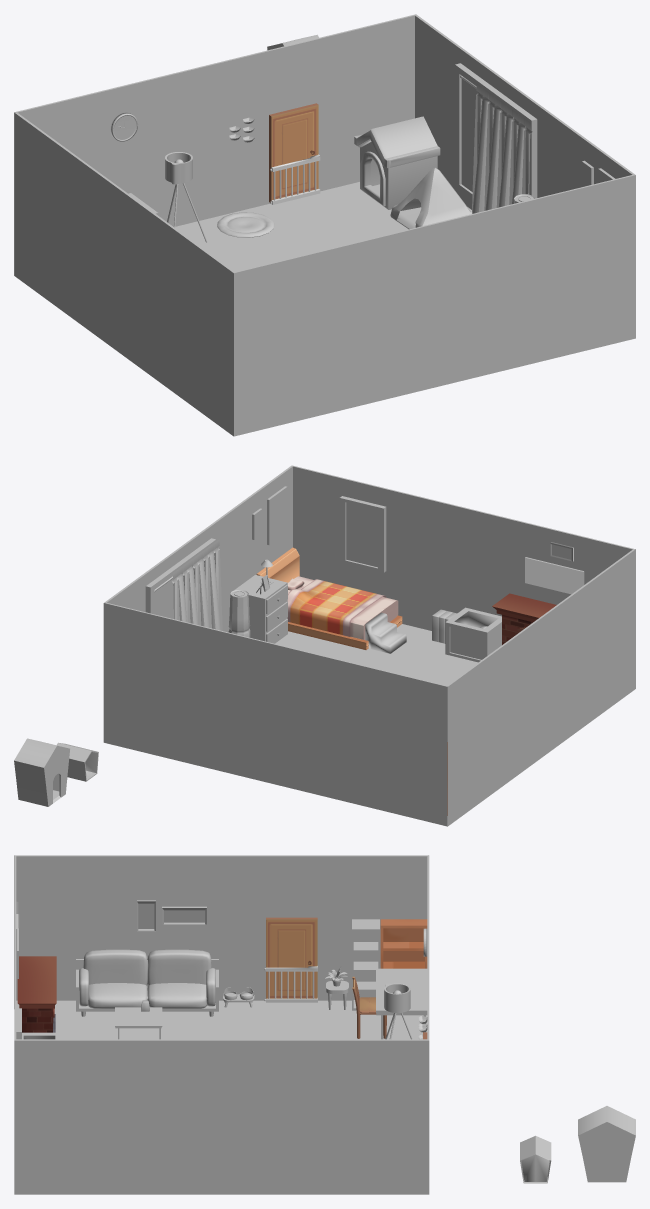
The model's file is 마이홈 배치 06_17 갱신.fbx.
3 renders of one model, top to bottom at view 1: azimuth 30°, elevation 25°; view 2: azimuth 150°, elevation 25°; view 3: azimuth 270°, elevation 25°, orthographic. The views are drawn at different scales.
Parts seen in each view (by area): view 1: Wall.01, Wall.03, Wall.02, Wall.04, MyHome, Box001, Door, Plane001, Cone001, Plane005, Plane006, Plane004 (+5 smaller); view 2: Wall.03, Wall.02, Wall.01, Wall.04, Bed, MyHome, Plane002, DogHouse1, Post, PlayBox, nightstand, FirePlace2 (+9 smaller); view 3: Wall.04, Wall.02, MyHome, Sofa, ToiletDoor, DogHouse1, FirePlace2, Bookshelf, Bookshelf.001, PC.001, Post.001, DogHouseSmall (+7 smaller).
Part boxes in pixels (<box>): Wall.01: <box>234,175,635,436</box>; Wall.03: <box>14,14,415,275</box>; Wall.02: <box>14,112,234,436</box>; Wall.04: <box>415,14,635,209</box>; MyHome: <box>175,182,468,271</box>; Box001: <box>354,116,440,209</box>; Door: <box>269,103,318,202</box>; Plane001: <box>455,63,537,199</box>; Cone001: <box>390,167,472,229</box>; Plane005: <box>472,83,489,213</box>; Plane006: <box>484,92,502,210</box>; Plane004: <box>496,101,514,207</box>; Wall.03: <box>103,602,447,826</box>; Wall.02: <box>447,549,635,825</box>; Wall.01: <box>292,465,634,630</box>; Wall.04: <box>104,465,292,632</box>; Bed: <box>256,547,402,649</box>; MyHome: <box>275,624,478,826</box>; Plane002: <box>339,496,386,572</box>; DogHouse1: <box>14,738,69,806</box>; Post: <box>252,486,584,594</box>; PlayBox: <box>445,607,501,662</box>; nightstand: <box>233,575,287,643</box>; FirePlace2: <box>492,593,556,644</box>; Wall.04: <box>14,1039,429,1194</box>; Wall.02: <box>14,855,428,1008</box>; MyHome: <box>16,1000,427,1039</box>; Sofa: <box>76,949,218,1016</box>; ToiletDoor: <box>266,917,317,998</box>; DogHouse1: <box>578,1106,635,1182</box>; FirePlace2: <box>17,956,56,1032</box>; Bookshelf: <box>380,919,427,968</box>; Bookshelf.001: <box>352,919,379,1010</box>; PC.001: <box>376,968,427,1039</box>; Post.001: <box>16,900,206,931</box>; DogHouseSmall: <box>520,1135,551,1183</box>.
Bounding box in the file's own units: 3097 × 1202 × 4396.
